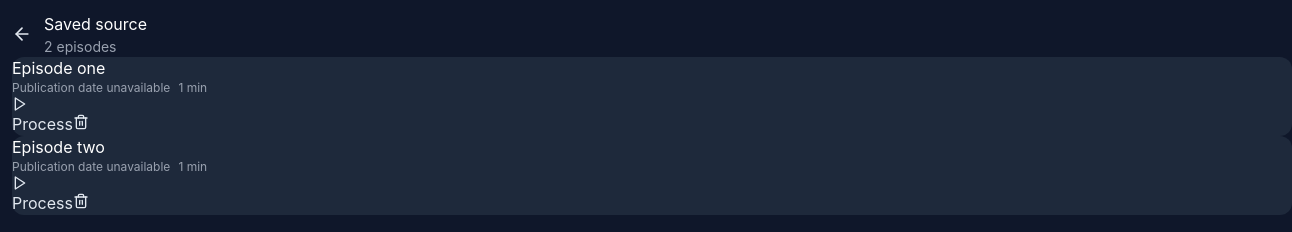
it: does not resurrect a confirmed deletion when an older episode snapshot arrives
The width and height of the screenshot is (1292, 232).
Click the button titled "Delete episode" below "Episode one": click(81, 122) [73,114,89,130]
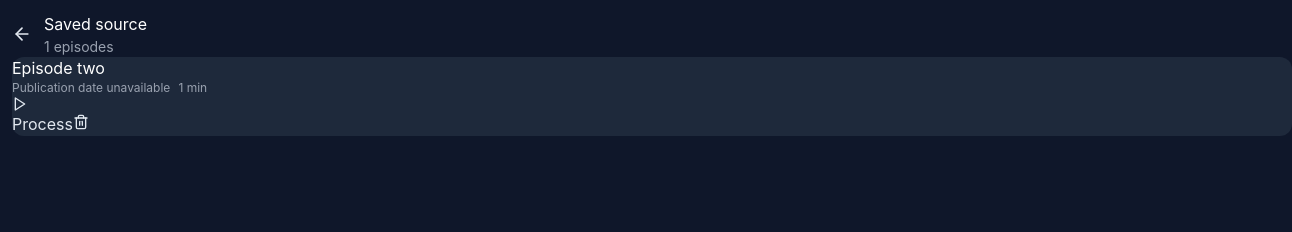
Expected: the text "Episode two" is shown, [12,58,105,78]
Expected: the text "Episode one" is gone
